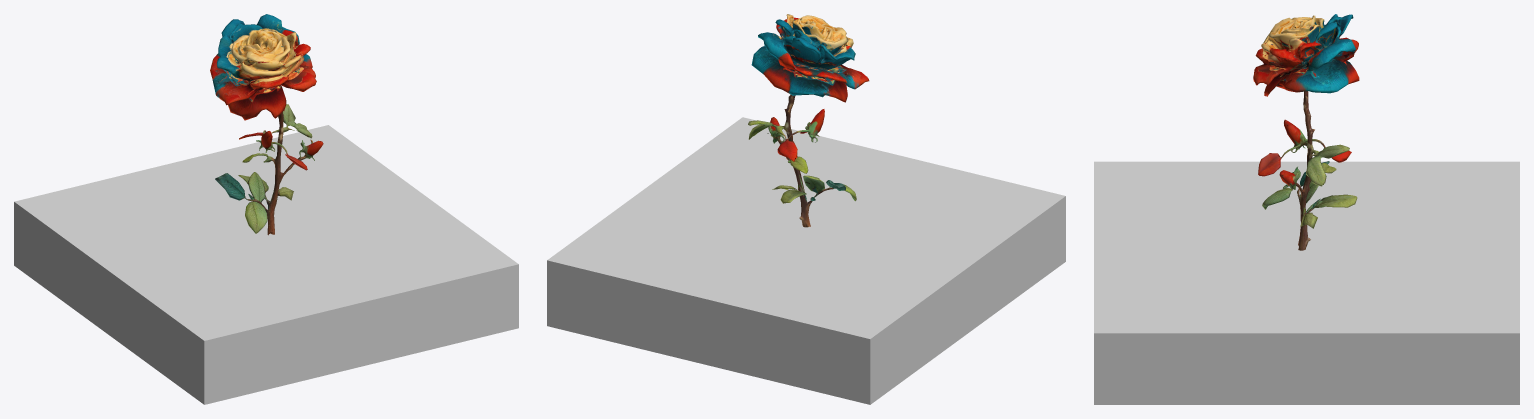
The model's file is rose.glb.
3 renders of one model, left to right at view 1: azimuth 30°, elevation 25°; view 2: azimuth 150°, elevation 25°; view 3: azimuth 270°, elevation 25°, orthographic. The views are drawn at different scales.
Visible parts, largest first — view 1: rose; view 2: rose; view 3: rose.
Part boxes in pixels (left/top/right/bottom): rose: left=14, top=14, right=518, bottom=404; rose: left=547, top=14, right=1065, bottom=404; rose: left=1094, top=14, right=1519, bottom=404.
Size of the model in its own units: 0.2762 by 0.2273 by 0.2895.
2 materials, 1 textured.
